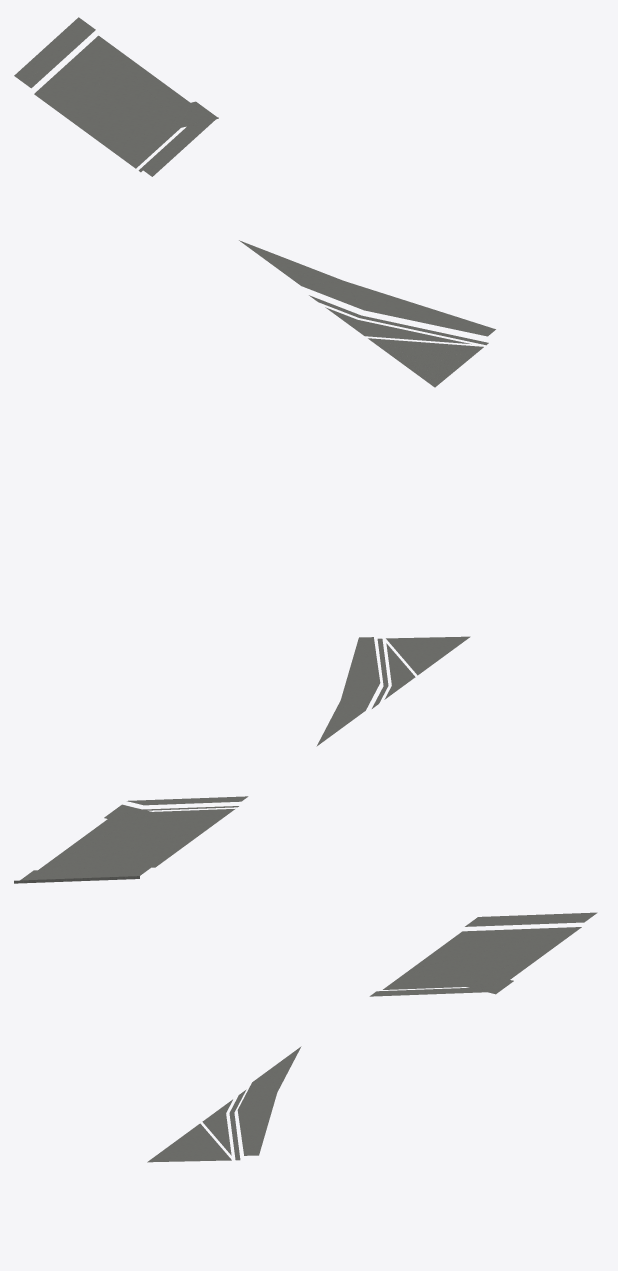
File: kd_stage_135fe0_4_15_bounded.glb
The picture shows the model from 3 angles, top to bottom: view 1: azimuth 30°, elevation 25°; view 2: azimuth 150°, elevation 25°; view 3: azimuth 330°, elevation 25°; orthographic projection. The views are drawn at different scales.
Visible parts, largest first — view 1: kd_stage_135fe0_4_15_bounded; view 2: kd_stage_135fe0_4_15_bounded; view 3: kd_stage_135fe0_4_15_bounded.
Part boxes in pixels (x1,y1,x2,y2): kd_stage_135fe0_4_15_bounded: [14, 17, 495, 387]; kd_stage_135fe0_4_15_bounded: [14, 636, 470, 883]; kd_stage_135fe0_4_15_bounded: [147, 912, 597, 1162].
Bounding box in the file's own units: 6.36 × 0.2 × 61.51.
Materials: 1 (1 with a texture image).
